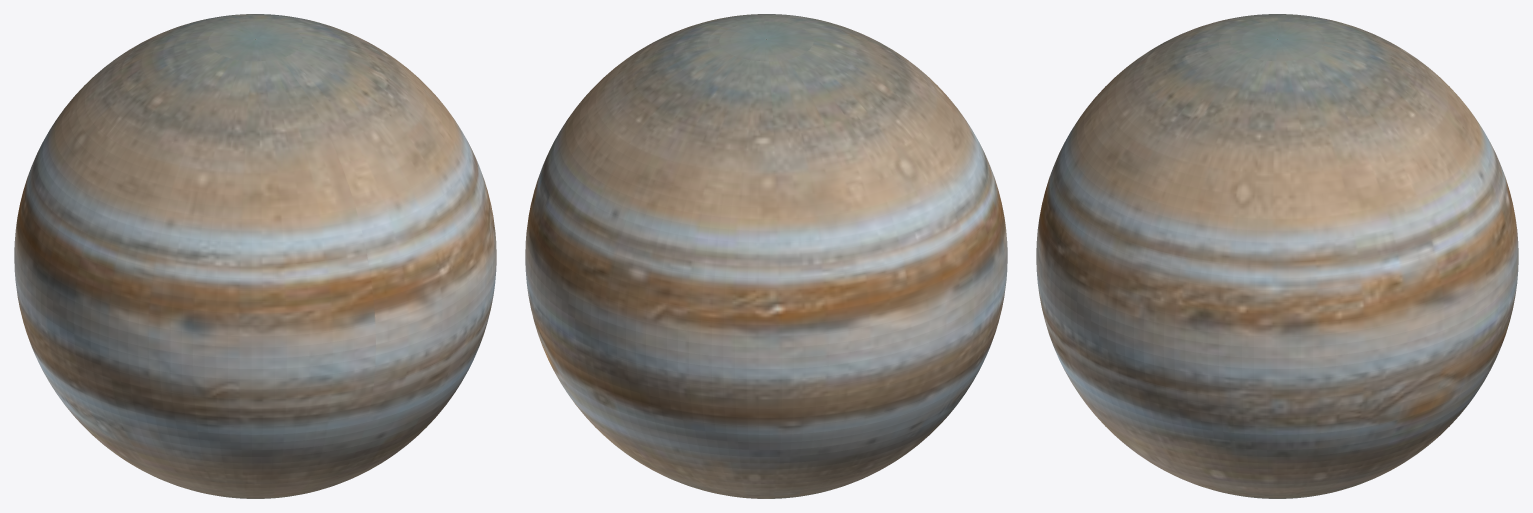
File: planets-jupiter.glb
3 renders of one model, left to right at view 1: azimuth 30°, elevation 25°; view 2: azimuth 150°, elevation 25°; view 3: azimuth 270°, elevation 25°, orthographic.
Visible parts, largest first — view 1: Jupiter; view 2: Jupiter; view 3: Jupiter.
Part boxes in pixels (left/top/right/bottom): Jupiter: left=14, top=14, right=496, bottom=498; Jupiter: left=525, top=14, right=1007, bottom=498; Jupiter: left=1036, top=14, right=1518, bottom=498.
Bounding box in the file's own units: 1.97 × 1.96 × 1.97.
1 material, 1 textured.
